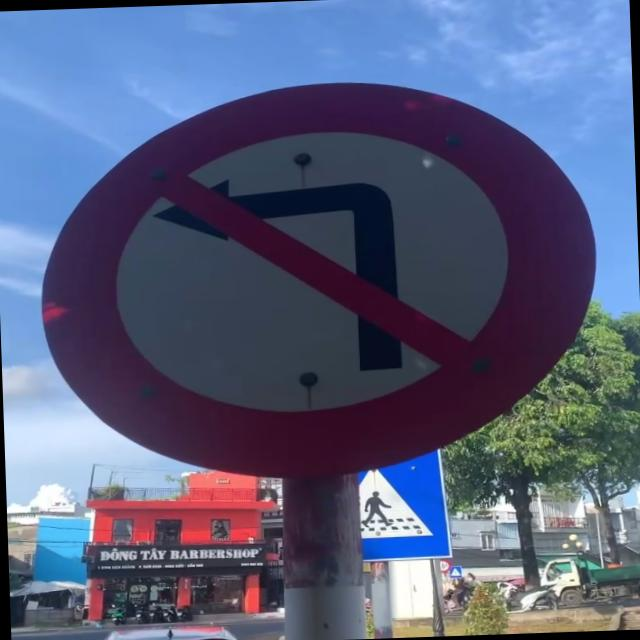Cam_Re_Trai: (39, 69, 602, 486)
